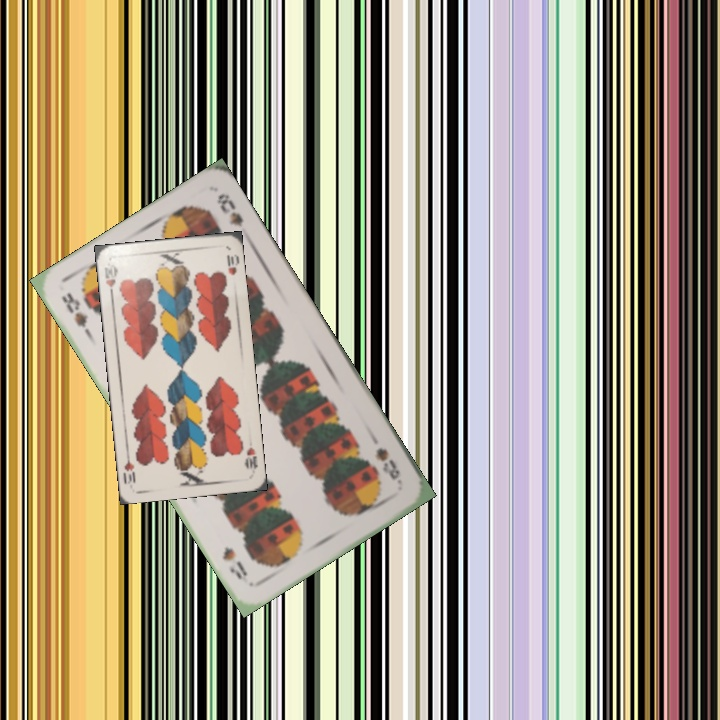H10: (100, 259, 120, 300), (240, 443, 260, 471)
S8: (57, 288, 95, 341), (371, 443, 405, 487)
